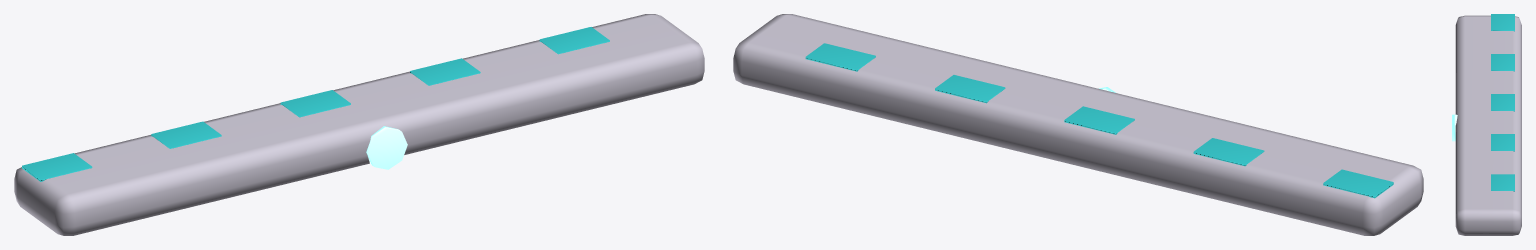
Rendered from pool_edge.glb.
The picture shows the model from 3 angles, left to right: view 1: azimuth 30°, elevation 25°; view 2: azimuth 150°, elevation 25°; view 3: azimuth 270°, elevation 25°; orthographic projection. The views are drawn at different scales.
Visible parts, largest first — view 1: Coping; view 2: Coping; view 3: Coping.
Part boxes in pixels (x1,y1,x2,y2): Coping: [14, 14, 704, 235]; Coping: [733, 14, 1423, 235]; Coping: [1452, 14, 1521, 235].
Bounding box in the file's own units: 1 × 0.067 × 0.1475.
